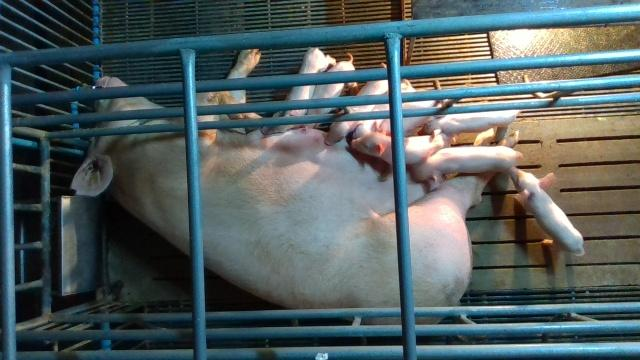piglet: (509, 167, 585, 255), (260, 46, 336, 133), (324, 62, 389, 145), (413, 146, 524, 186), (301, 53, 359, 127), (350, 123, 449, 165), (417, 109, 520, 136)
sow-sleep-lactate: (70, 50, 520, 325)
